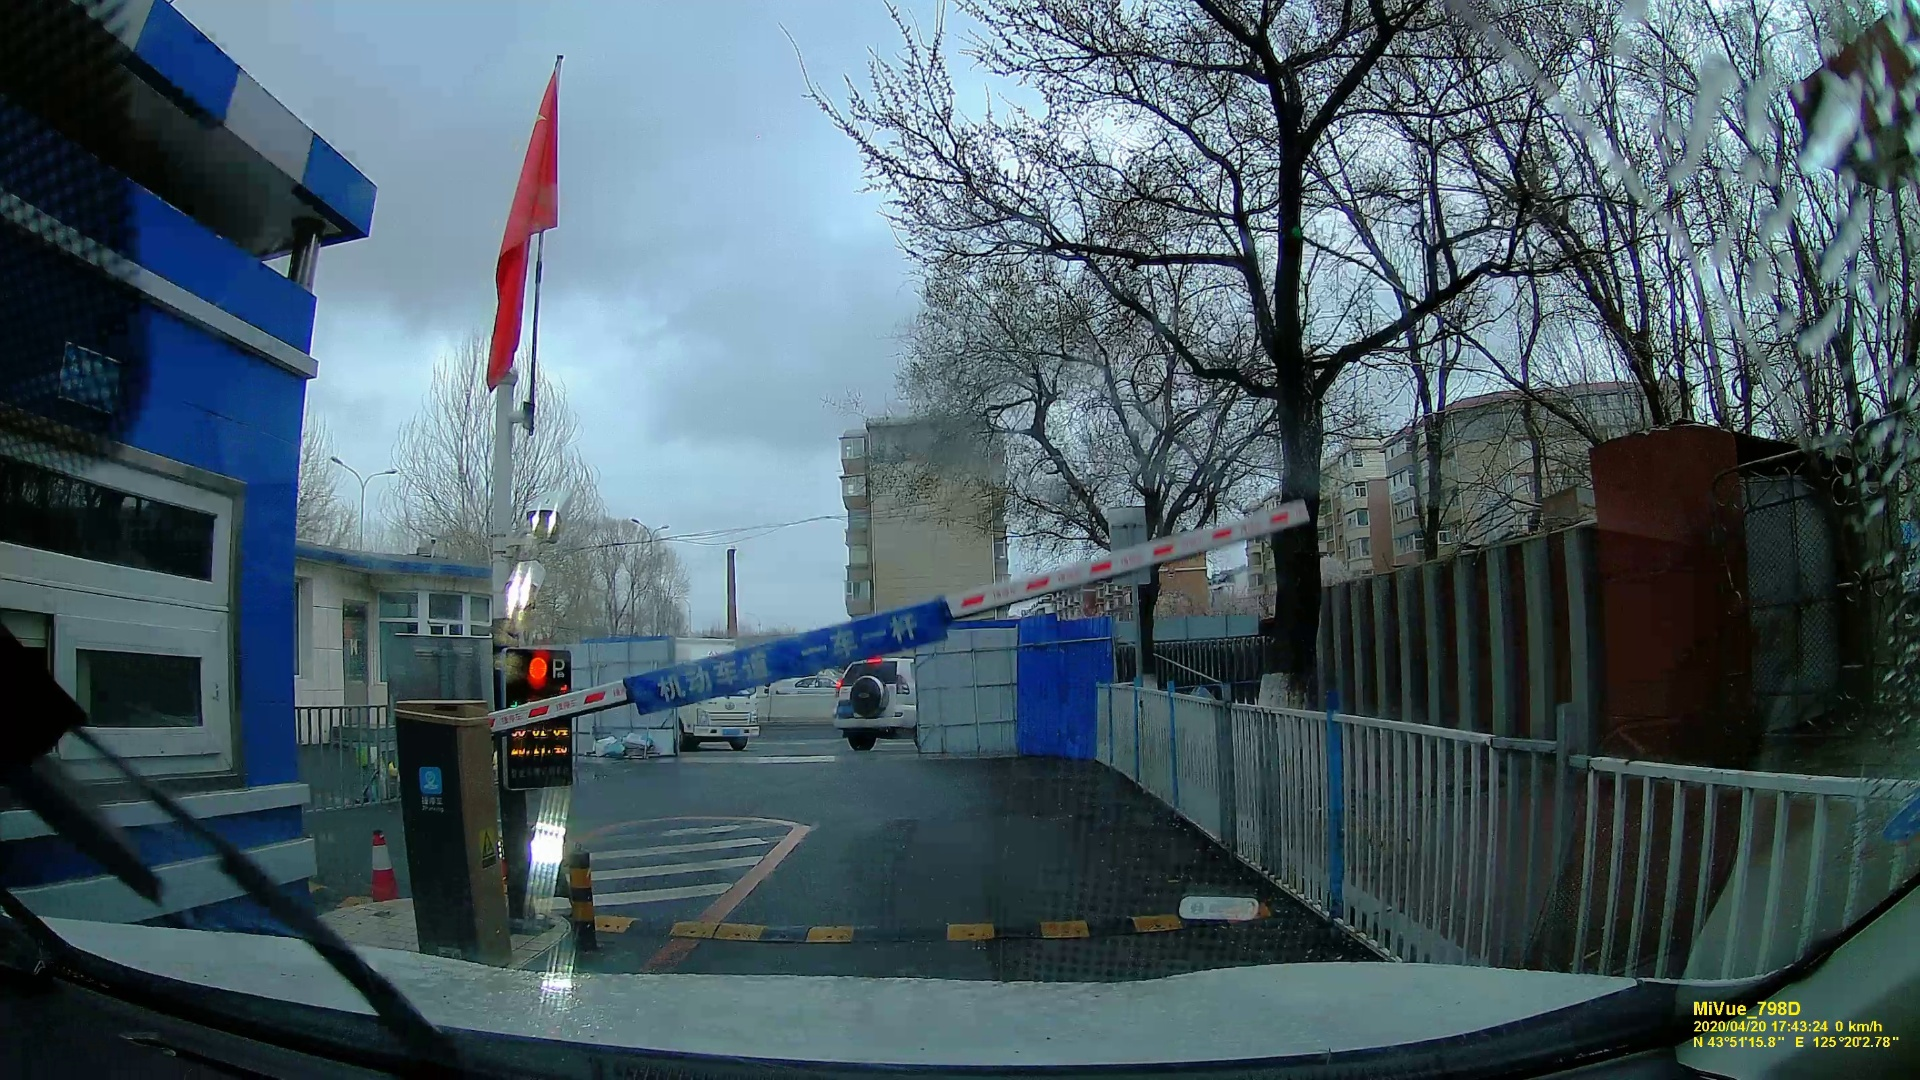truck: (663, 630, 764, 752)
vehicle: (829, 654, 920, 744)
